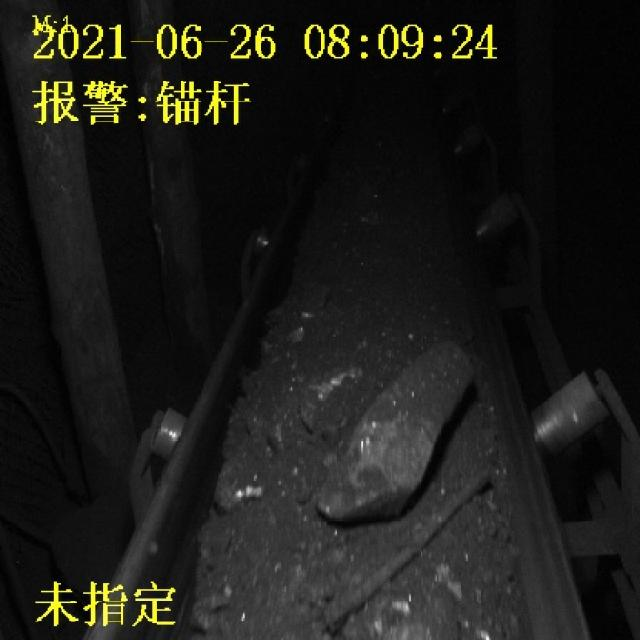bolt: (336, 478, 496, 622)
large_sized_coal: (317, 348, 472, 528), (303, 364, 368, 436), (212, 462, 272, 512)
